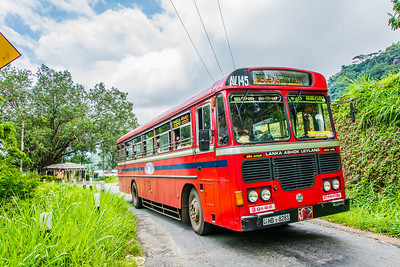bus: (116, 66, 351, 237)
